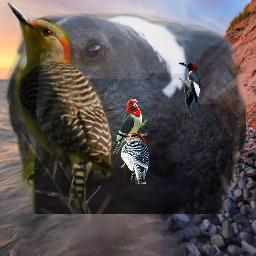Crow: (5, 12, 246, 214)
Woodpecker: (6, 2, 113, 211), (111, 98, 147, 154), (114, 130, 151, 184), (179, 62, 201, 117)
